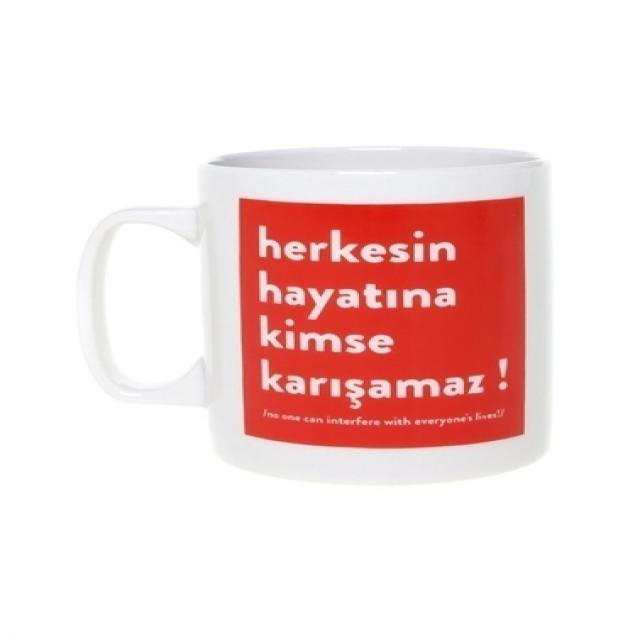Coffee Mug: (72, 142, 554, 487)
